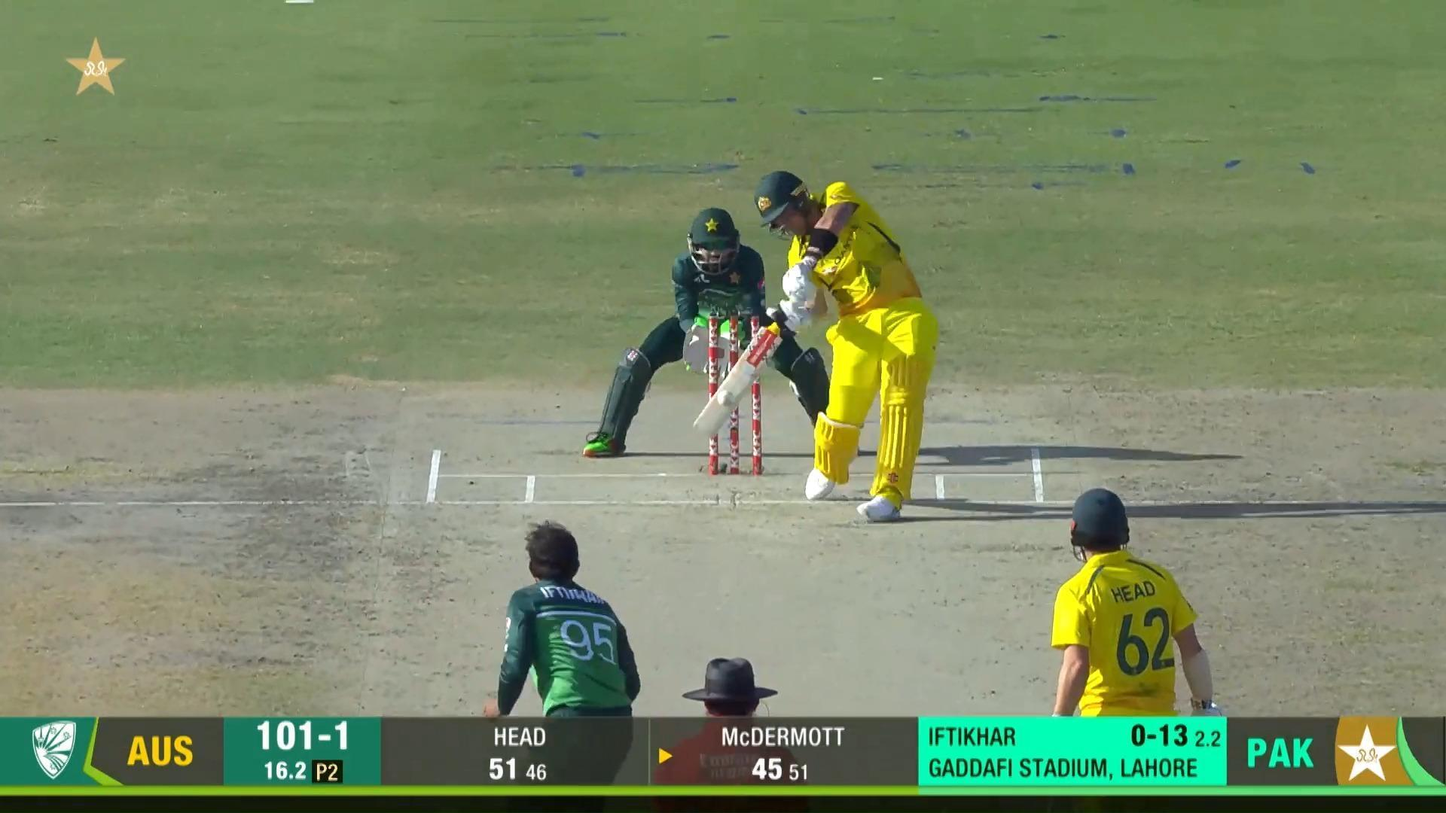BM 1: (688, 169, 938, 525)
BO: (478, 518, 645, 813)
